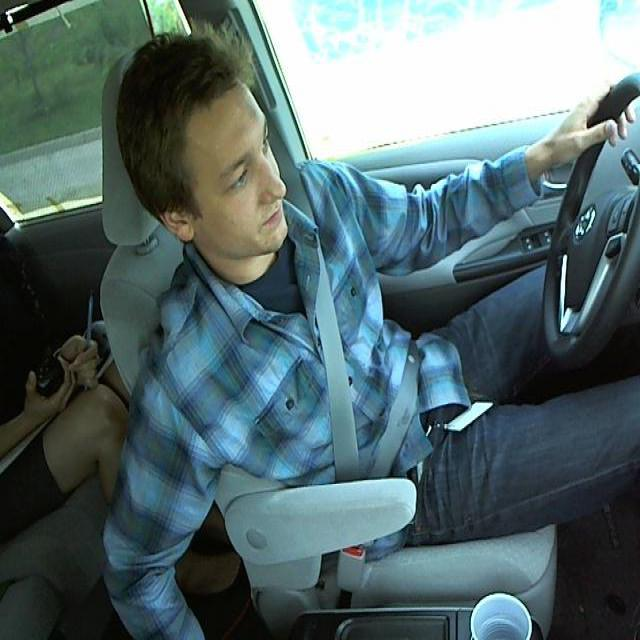seatbelt: (290, 207, 425, 477)
